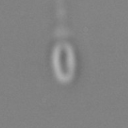abnormal: (47, 1, 81, 40)
